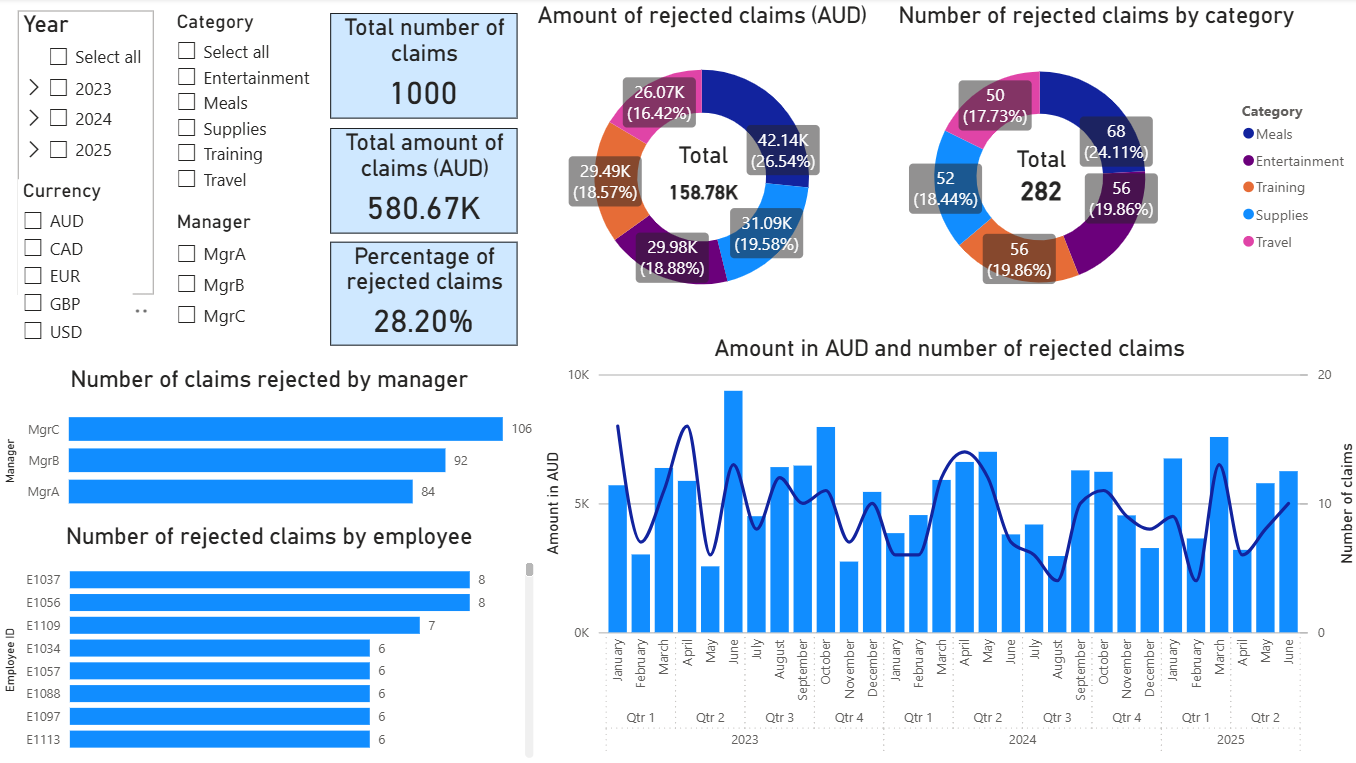

Layout of this report page (visuals, bound fields, positions):
{"tool":"powerbi","page":{"name":"Rejected claims","canvas":[1280,720],"ordinal":0},"visuals":[{"type":"donutChart","title":"Number of rejected claims by category","fields":{"Category":["Claim.Category"],"Y":["CountNonNull(Claim.ClaimID)"]},"box":[783.6,3,495.5,306],"z":0,"group":"g2"},{"type":"listSlicer","fields":{"Values":["Claim.SubmitDate.Variation.Date Hierarchy.Year","Claim.SubmitDate.Variation.Date Hierarchy.Quarter","Claim.SubmitDate.Variation.Date Hierarchy.Month","Claim.SubmitDate.Variation.Date Hierarchy.Day"]},"box":[17.4,12.2,128.7,266],"z":0},{"type":"donutChart","title":"Amount of rejected claims (AUD)","fields":{"Y":["Sum(Claim.Amount_AUD)"],"Category":["Claim.Category"]},"box":[450.8,3,419,306],"z":1000,"group":"g3"},{"type":"card","title":"Total","fields":{"Values":["Count(Claim.ClaimID)"]},"box":[935.8,138,86.6,63.5],"z":1000,"group":"g2"},{"type":"listSlicer","fields":{"Values":["Claim.Currency"]},"box":[17.4,170.4,107.8,241.7],"z":1000},{"type":"listSlicer","fields":{"Values":["Claim.Category"]},"box":[161.7,12.2,153,229.5],"z":2000},{"type":"card","title":"Total","fields":{"Values":["Sum(Claim.Amount_AUD)"]},"box":[616,134.2,90.4,71.3],"z":2000,"group":"g3"},{"type":"listSlicer","title":"Manager","fields":{"Values":["Claim.ApprovedBy"]},"box":[161.7,199.9,132.1,264.3],"z":3000},{"type":"group","id":"g1","title":"Group 1","box":[783.6,3,495.5,306],"z":4000},{"type":"card","title":"Total number of claims","fields":{"Values":["Count(Claim.ClaimID)"]},"box":[311.2,13.9,175.6,99.1],"z":5000},{"type":"card","title":"Percentage of rejected claims","fields":{"Values":["Claim.Rejected_Percentage"]},"box":[311.2,229.5,175.6,97.4],"z":6000},{"type":"clusteredBarChart","title":"Number of rejected claims by employee","fields":{"Category":["Claim.EmployeeID"],"Y":["CountNonNull(Claim.ClaimID)"]},"box":[0,493.8,507.7,226],"z":7000},{"type":"group","id":"g2","title":"Group 2","box":[783.6,3,495.5,306],"z":7001,"group":"g1"},{"type":"lineClusteredColumnComboChart","title":"Amount in AUD and number of rejected claims","fields":{"Category":["Claim.SubmitDate.Variation.Date Hierarchy.Year","Claim.SubmitDate.Variation.Date Hierarchy.Quarter","Claim.SubmitDate.Variation.Date Hierarchy.Month"],"Y":["Sum(Claim.Amount_AUD)"],"Y2":["CountNonNull(Claim.ClaimID)"]},"box":[507.7,316.4,772,403.4],"z":8000},{"type":"clusteredBarChart","title":"Number of claims rejected by manager","fields":{"Y":["CountNonNull(Claim.ClaimID)"],"Category":["Claim.ApprovedBy"]},"box":[0,346,507.7,147.8],"z":9000},{"type":"group","id":"g3","title":"Group 3","box":[450.8,3,419,306],"z":10000},{"type":"card","title":"Total amount of claims (AUD)","fields":{"Values":["Sum(Claim.Amount_AUD)"]},"box":[311.2,121.7,175.6,99.1],"z":10001}]}

Visuals, with their boxes in screenshot pixels (x1, y1, x2, y2), scaled from the page's 1280x720 canvas onto the 1356x763 screenshot:
"Number of rejected claims by category" donutChart: (left=830, top=3, right=1355, bottom=327)
listSlicer - Claim.SubmitDate.Variation.Date Hierarchy.Year x Claim.SubmitDate.Variation.Date Hierarchy.Quarter: (left=18, top=13, right=155, bottom=295)
"Amount of rejected claims (AUD)" donutChart: (left=478, top=3, right=921, bottom=327)
"Total" card: (left=991, top=146, right=1083, bottom=214)
listSlicer - Claim.Currency: (left=18, top=181, right=133, bottom=437)
listSlicer - Claim.Category: (left=171, top=13, right=333, bottom=256)
"Total" card: (left=653, top=142, right=748, bottom=218)
"Manager" listSlicer: (left=171, top=212, right=311, bottom=492)
"Group 1" group: (left=830, top=3, right=1355, bottom=327)
"Total number of claims" card: (left=330, top=15, right=516, bottom=120)
"Percentage of rejected claims" card: (left=330, top=243, right=516, bottom=346)
"Number of rejected claims by employee" clusteredBarChart: (left=0, top=523, right=538, bottom=762)
"Group 2" group: (left=830, top=3, right=1355, bottom=327)
"Amount in AUD and number of rejected claims" lineClusteredColumnComboChart: (left=538, top=335, right=1355, bottom=762)
"Number of claims rejected by manager" clusteredBarChart: (left=0, top=367, right=538, bottom=523)
"Group 3" group: (left=478, top=3, right=921, bottom=327)
"Total amount of claims (AUD)" card: (left=330, top=129, right=516, bottom=234)
